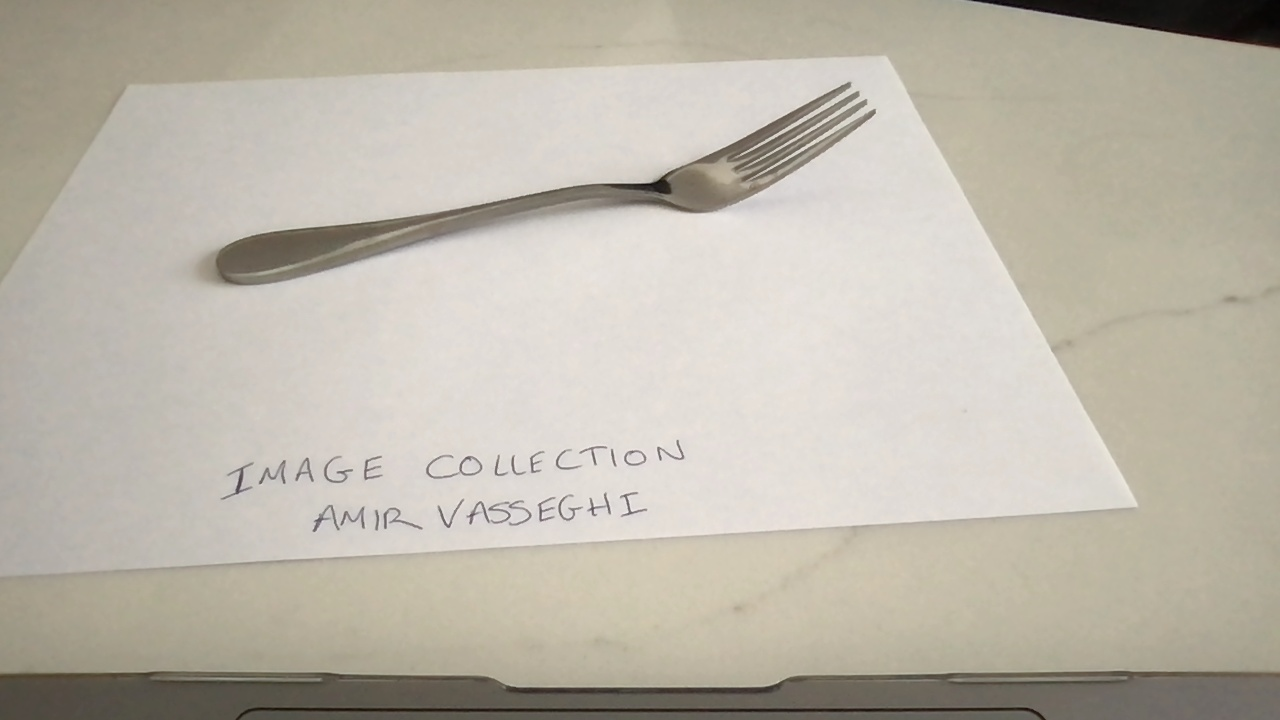fork: (216, 79, 878, 292)
